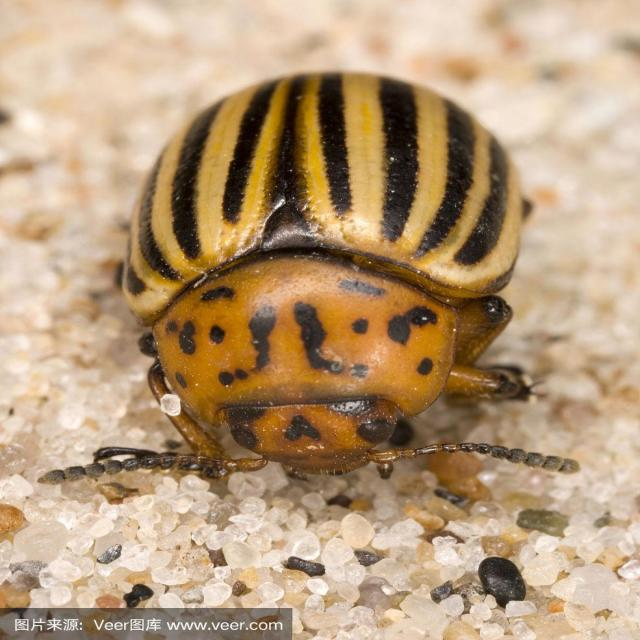ShuCaiHuaBanChong-Grown-: (105, 61, 540, 487)
